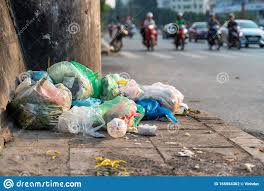garbage: (16, 81, 166, 132), (23, 64, 115, 131)
